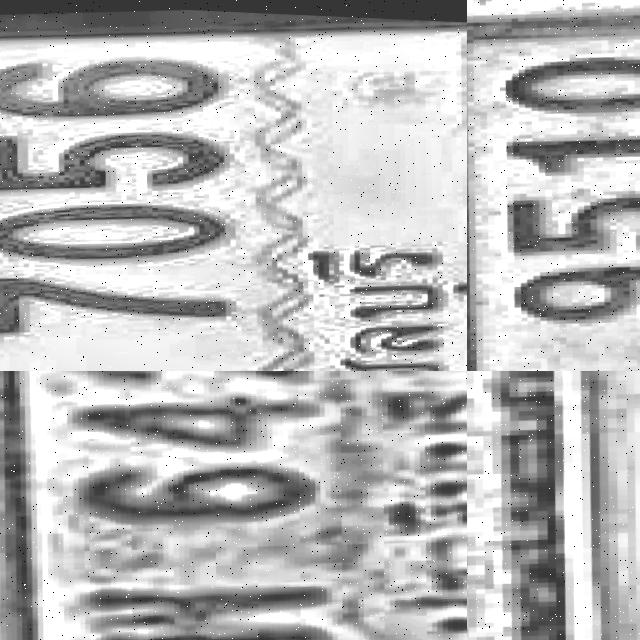license-plate: (0, 0, 467, 371), (0, 371, 467, 640), (467, 0, 640, 371), (467, 371, 640, 640)
